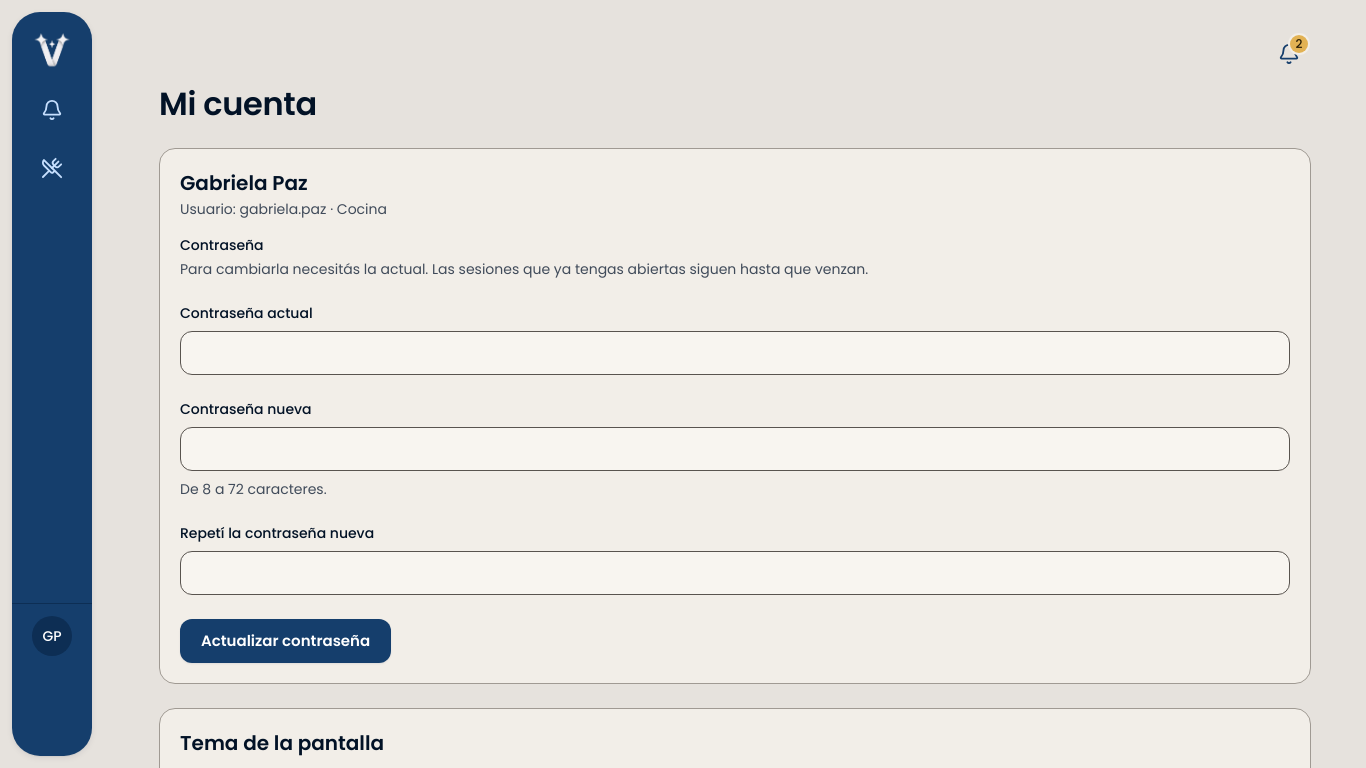
Test: UI-22 · notificaciones › a Cocina el aviso la lleva a la tarjeta del evento en la vista de cocina
Click the button named "Notificaciones, 2 sin leer" at point(1289, 54), box 1267,32 -> 1311,76
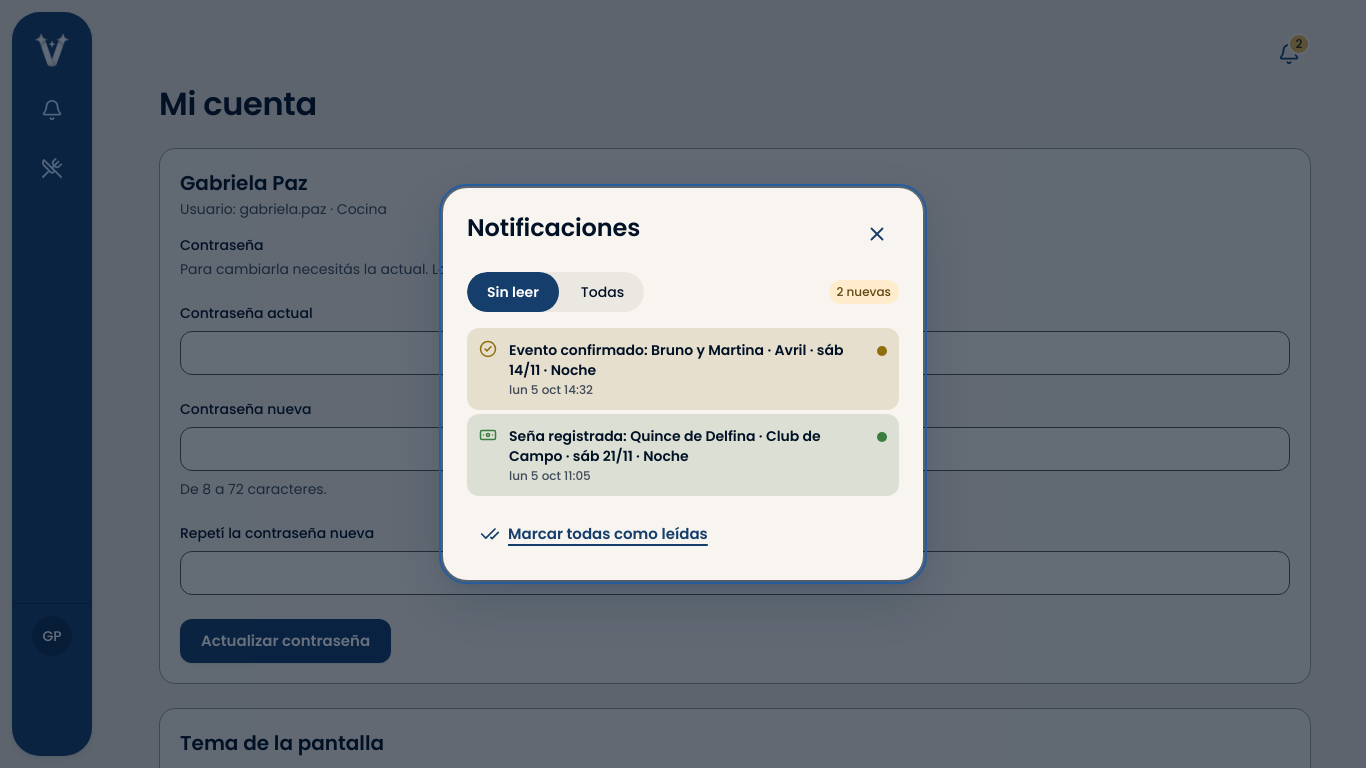
Click the button "Evento confirmado" at point(536, 349), box 467,328 -> 899,410
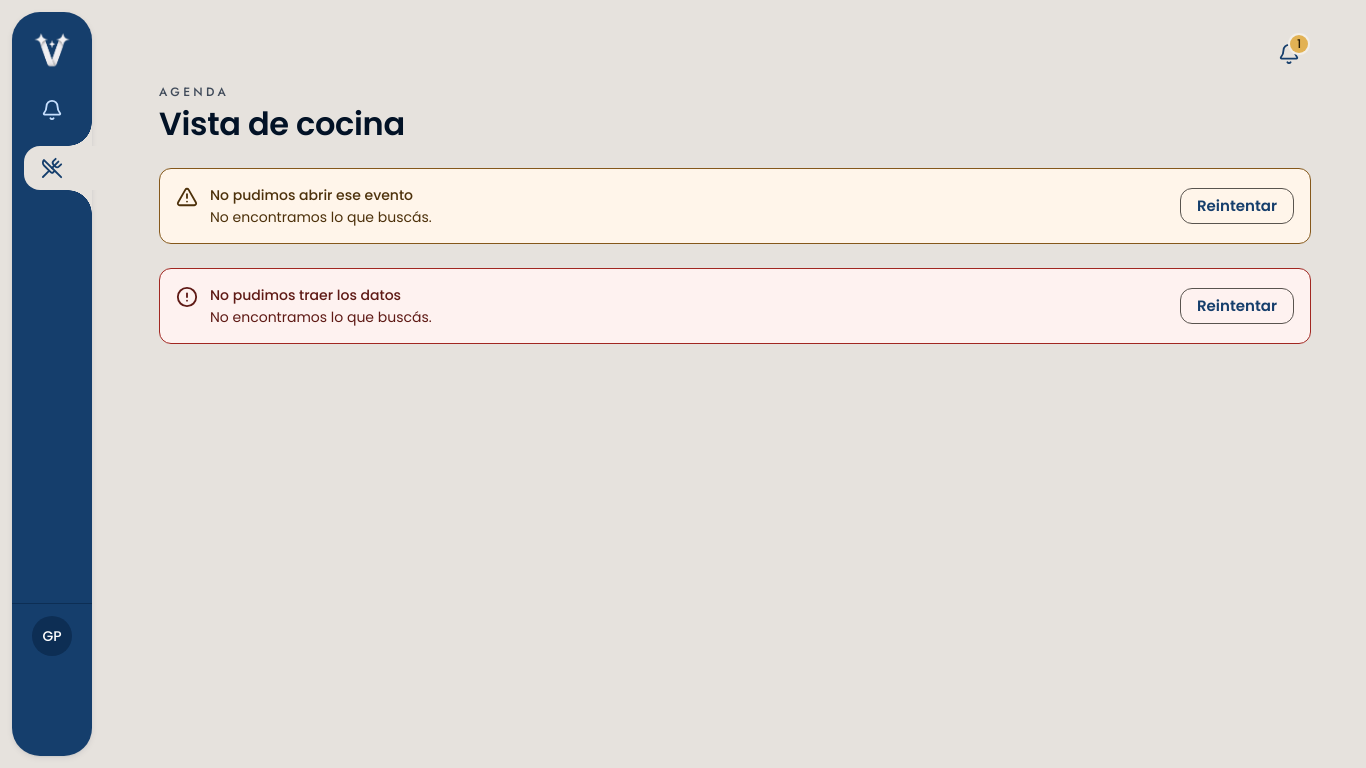
Expected: the heading "Notificaciones" is gone
